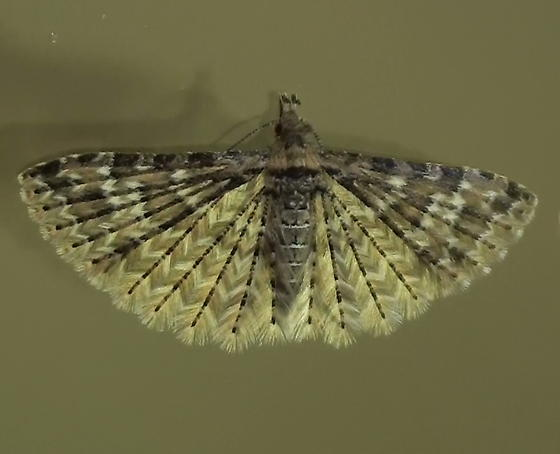Alucitidae: (14, 88, 547, 359)
moth: (16, 90, 549, 361)
